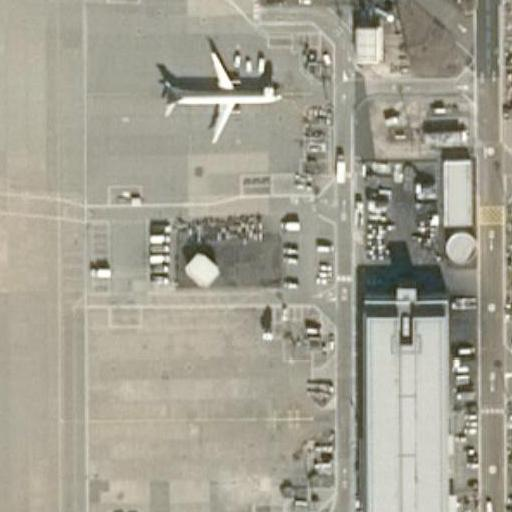Aircraft: (158, 48, 285, 138)
